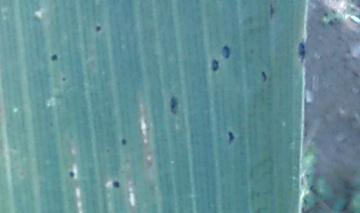tarspot: (168, 96, 179, 115), (298, 42, 305, 62), (268, 2, 275, 22), (221, 46, 231, 58), (260, 69, 268, 83), (212, 58, 219, 72), (227, 131, 235, 143), (111, 179, 121, 188), (49, 53, 58, 62), (68, 170, 76, 179), (95, 24, 102, 33), (120, 136, 127, 145), (61, 75, 67, 82)
